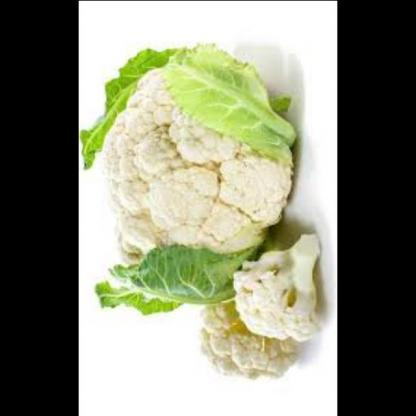cayliflower: (84, 50, 299, 291), (229, 228, 322, 343), (194, 290, 302, 382)
